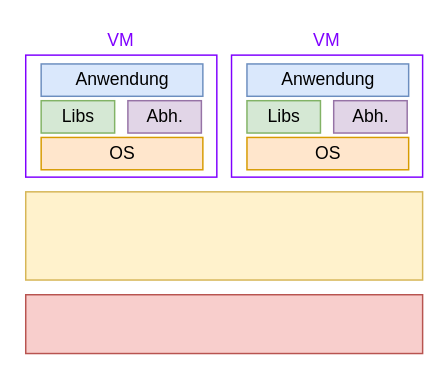
This 448x379 diagram has some shape labels left out. The centre of each missing label's shape, as x and y in pixels:
Hardware Infrastruktur: (223,323)
Hypervisor: (223,235)
